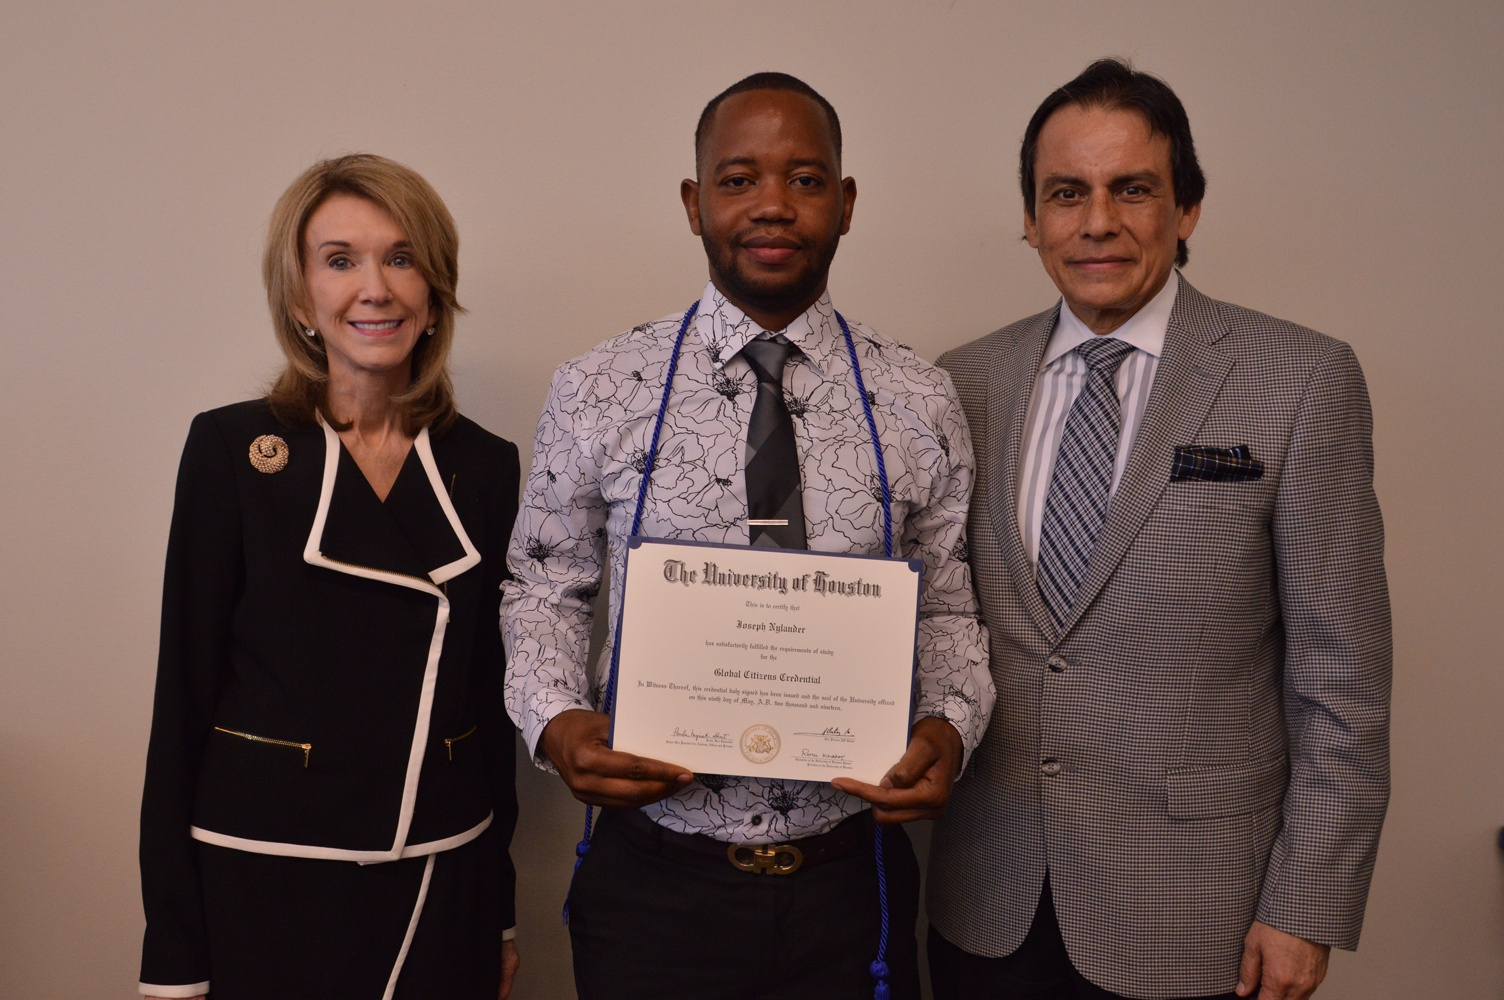mouth: (732, 230, 803, 263), (345, 312, 408, 342), (1058, 252, 1139, 273)
nose: (743, 204, 796, 224), (1078, 221, 1121, 242), (353, 288, 393, 307)
